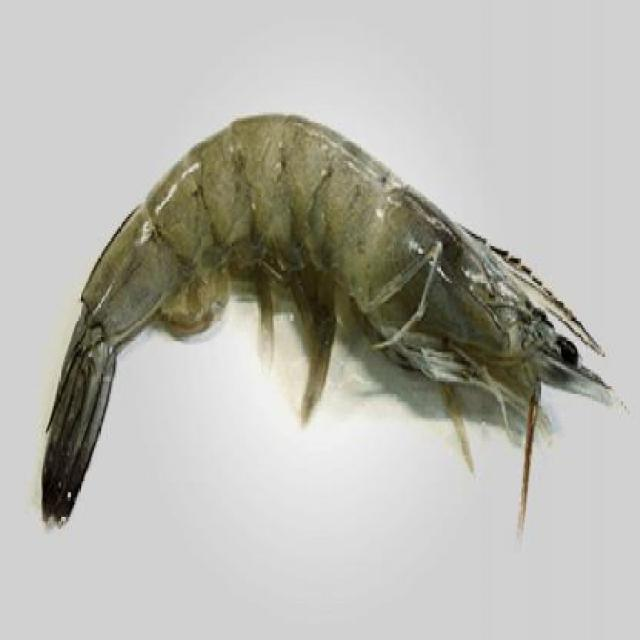shrimp: (34, 107, 638, 534)
